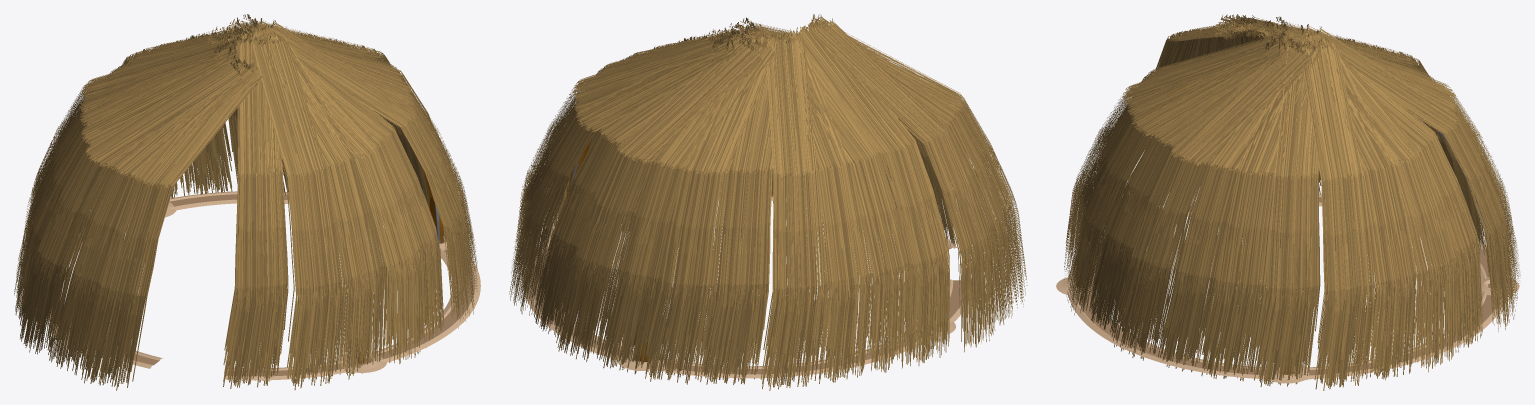
The model's file is TheHutModified.glb.
3 renders of one model, left to right at view 1: azimuth 30°, elevation 25°; view 2: azimuth 150°, elevation 25°; view 3: azimuth 270°, elevation 25°, orthographic. The views are drawn at different scales.
Parts seen in each view (by area): view 1: Kalahari_Straw_Batch_000, Kalahari_Straw_Batch_025, Kalahari_Straw_Batch_005, Kalahari_Straw_Batch_020, Kalahari_Straw_Batch_015, Hut_Outline_Groove, Kalahari_Straw_Batch_010, Hut_PoleHole_4, tripo_node_36431f24.001; view 2: Kalahari_Straw_Batch_020, Kalahari_Straw_Batch_015, Kalahari_Straw_Batch_025, Kalahari_Straw_Batch_010, Hut_Outline_Groove, Kalahari_Straw_Batch_000, Kalahari_Straw_Batch_005; view 3: Kalahari_Straw_Batch_010, Kalahari_Straw_Batch_005, Kalahari_Straw_Batch_015, Kalahari_Straw_Batch_000, Hut_Outline_Groove, Kalahari_Straw_Batch_025, Kalahari_Straw_Batch_020.
Boxes of the visible parts, box(x1,y1,x2,y2) form: Kalahari_Straw_Batch_000: box(223, 31, 421, 389); Kalahari_Straw_Batch_025: box(15, 51, 261, 390); Kalahari_Straw_Batch_005: box(250, 18, 477, 347); Kalahari_Straw_Batch_020: box(14, 33, 244, 306); Kalahari_Straw_Batch_015: box(93, 24, 292, 198); Hut_Outline_Groove: box(46, 191, 480, 380); Kalahari_Straw_Batch_010: box(227, 14, 456, 242); Hut_PoleHole_4: box(338, 352, 386, 372); tripo_node_36431f24.001: box(344, 59, 443, 243); Kalahari_Straw_Batch_020: box(698, 29, 912, 390); Kalahari_Straw_Batch_015: box(534, 32, 775, 384); Kalahari_Straw_Batch_025: box(796, 14, 1027, 366); Kalahari_Straw_Batch_010: box(509, 29, 737, 315); Hut_Outline_Groove: box(523, 189, 968, 378); Kalahari_Straw_Batch_000: box(729, 17, 957, 248); Kalahari_Straw_Batch_005: box(587, 26, 773, 219); Kalahari_Straw_Batch_010: box(1254, 36, 1456, 390); Kalahari_Straw_Batch_005: box(1089, 36, 1322, 381); Kalahari_Straw_Batch_015: box(1296, 24, 1520, 352); Kalahari_Straw_Batch_000: box(1064, 29, 1288, 315); Hut_Outline_Groove: box(1068, 194, 1506, 379); Kalahari_Straw_Batch_025: box(1147, 14, 1321, 194); Kalahari_Straw_Batch_020: box(1258, 16, 1486, 255).
Size of the model in its own units: 6.4 by 3.62 by 5.97.
5 materials, 1 textured.
